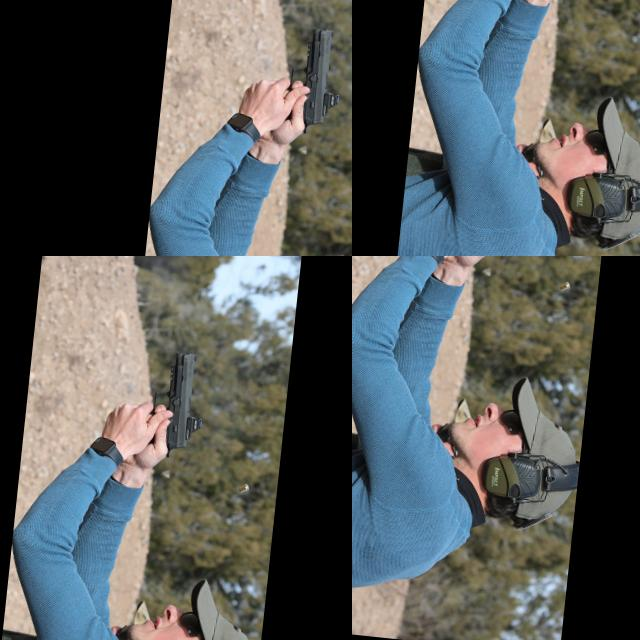handgun: (20, 256, 289, 472), (435, 0, 640, 256), (160, 0, 219, 100), (467, 256, 530, 313)
